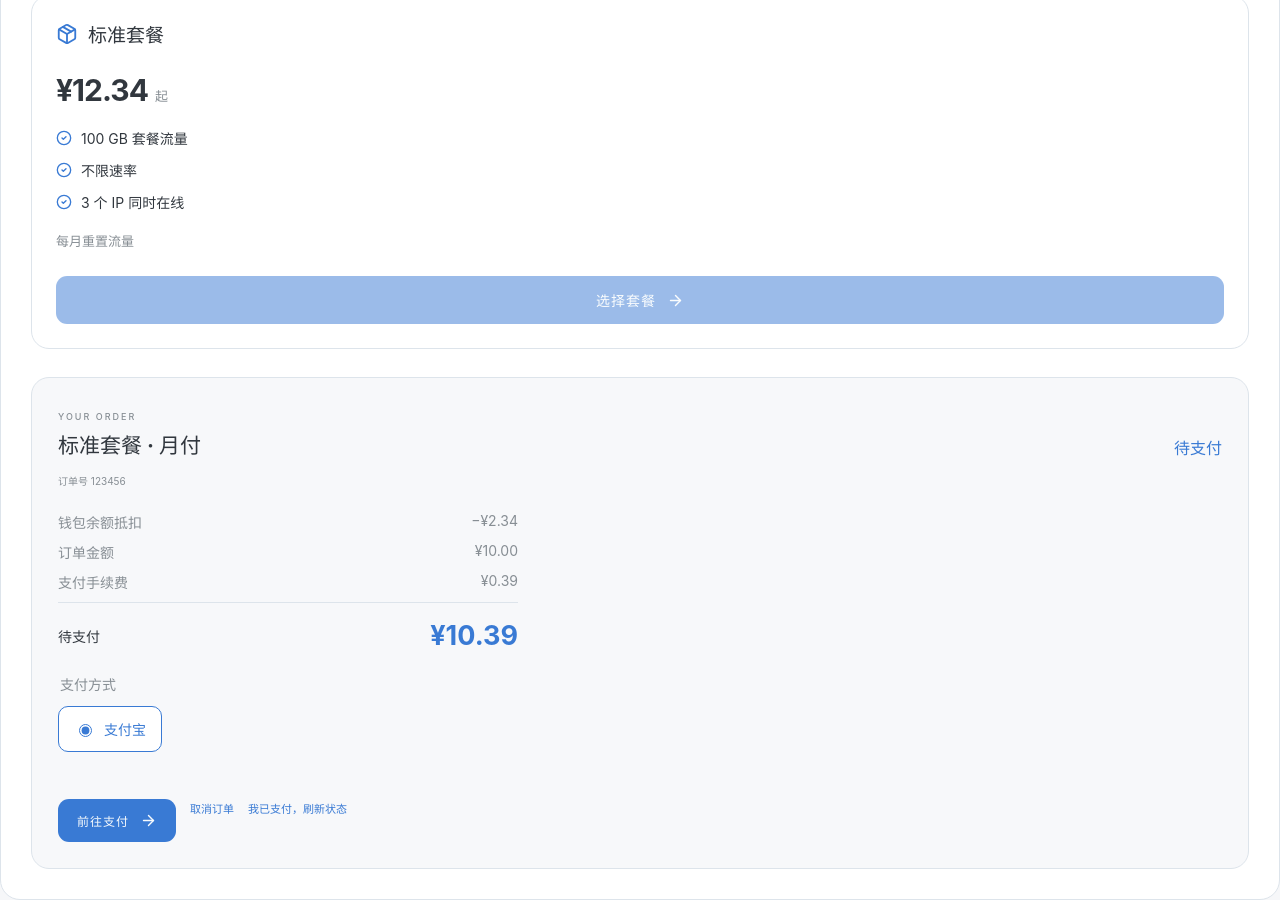
it: 恢复待支付订单，不允许重复下单，取消后可重新选择
The image size is (1280, 900).
(page scrolled)
expect the text "订单号 123456" is shown: met, box [58,476,126,488]
expect the button "选择套餐" is disabled: met, box [56,276,1224,324]
Click the button "取消订单": click(212, 808) [190,786,234,830]
(page scrolled)
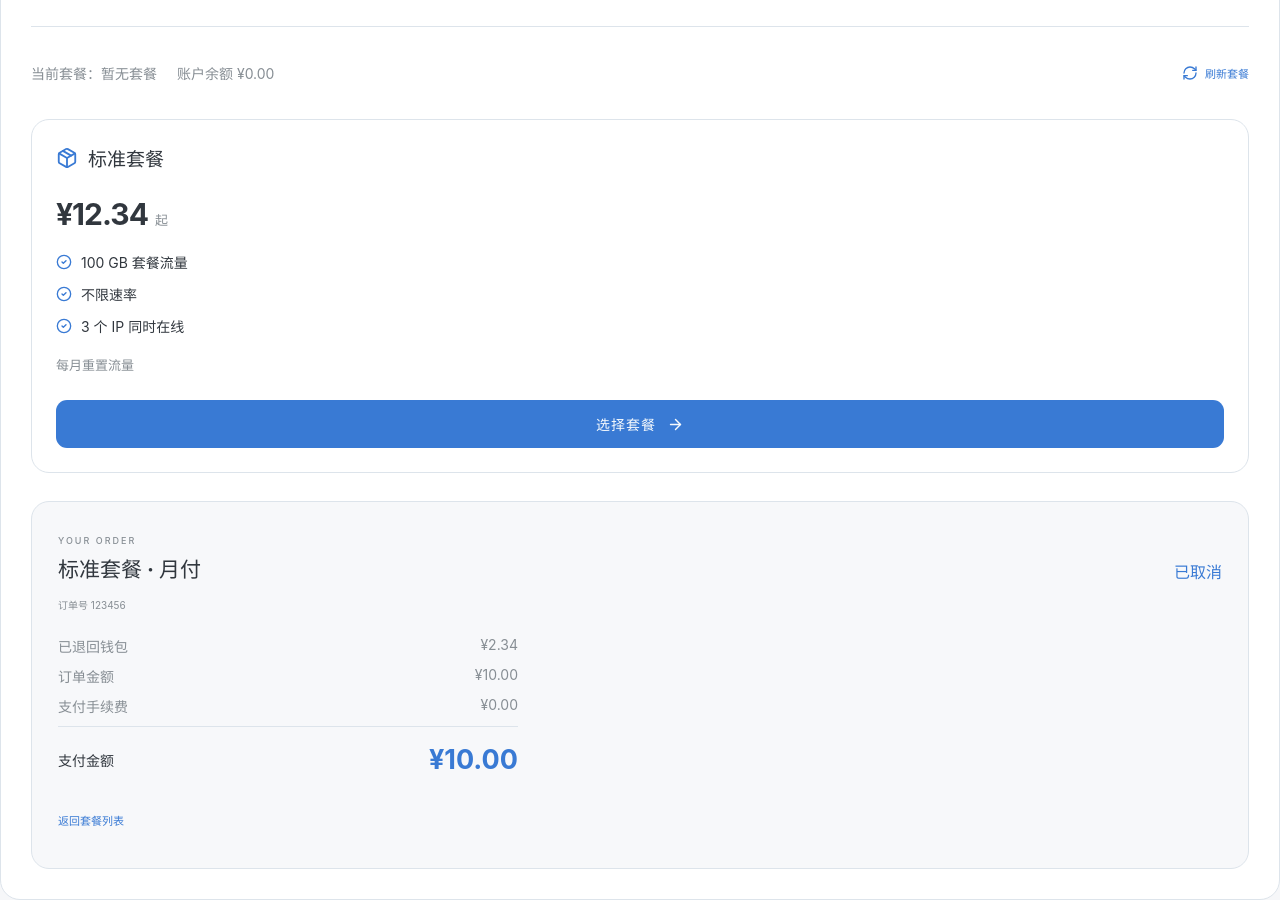
expect the text "已取消" is shown: met, box [1174,560,1222,584]
expect the button "选择套餐" is enabled: met, box [56,400,1224,448]
